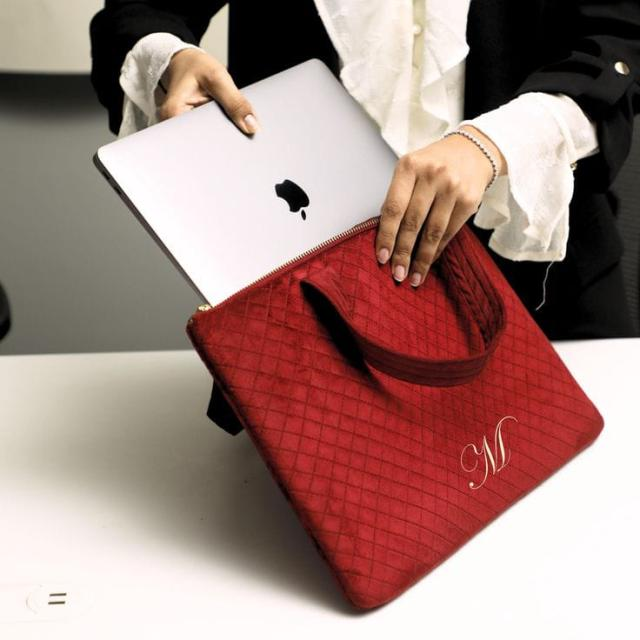bag: (164, 163, 640, 640)
laptop: (78, 0, 474, 330)
